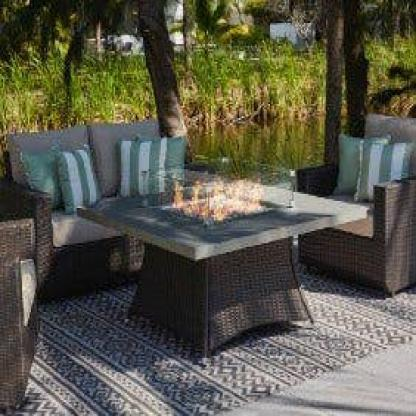table: (68, 171, 372, 359)
